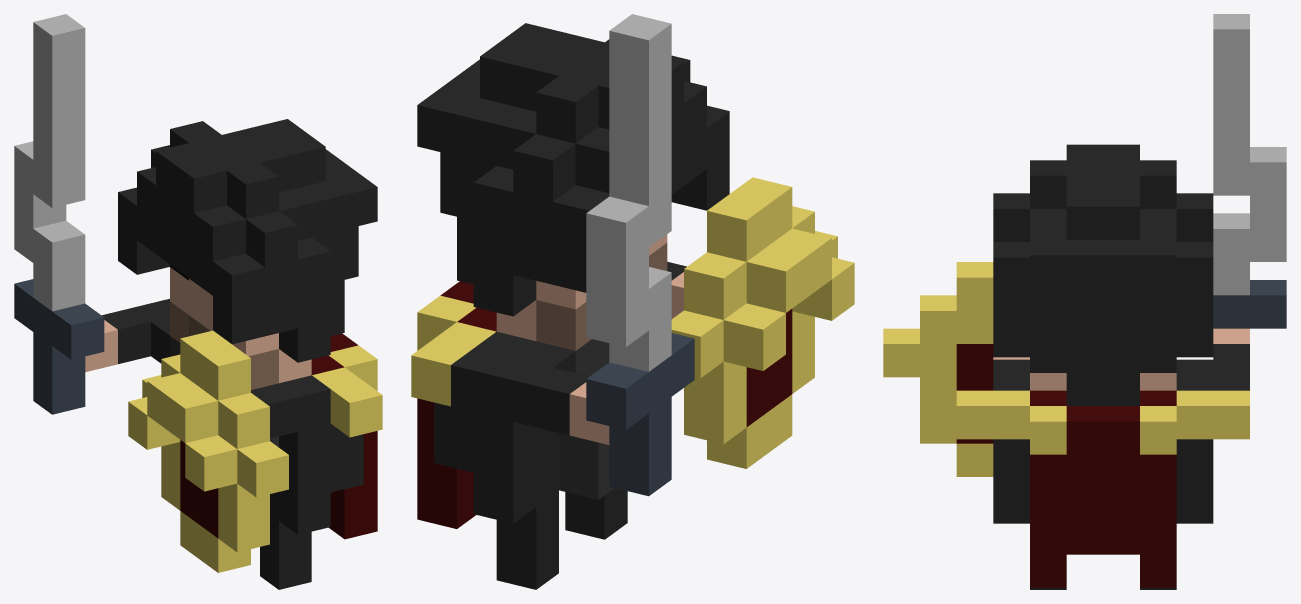
Rendered from Soldier.obj.
3 views of the same model, side by side, from view 1: azimuth 30°, elevation 25°; view 2: azimuth 150°, elevation 25°; view 3: azimuth 270°, elevation 25° (orthographic). The views are drawn at different scales.
Bounding box in the file's own units: 7 × 15 × 11.
1 material, 1 textured.
